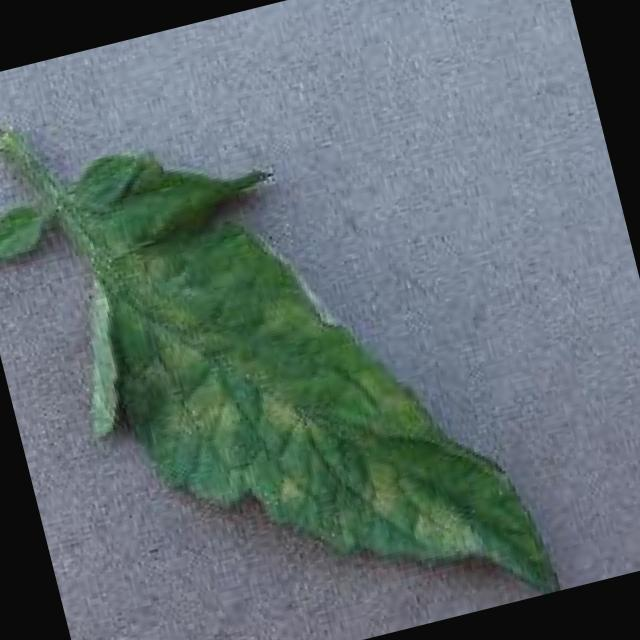leaf mold: (4, 148, 550, 595)
